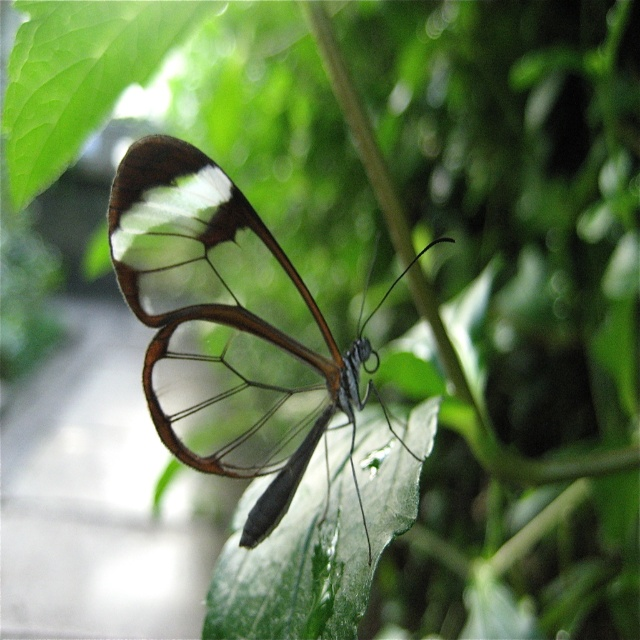Butterfly: (130, 95, 472, 576)
